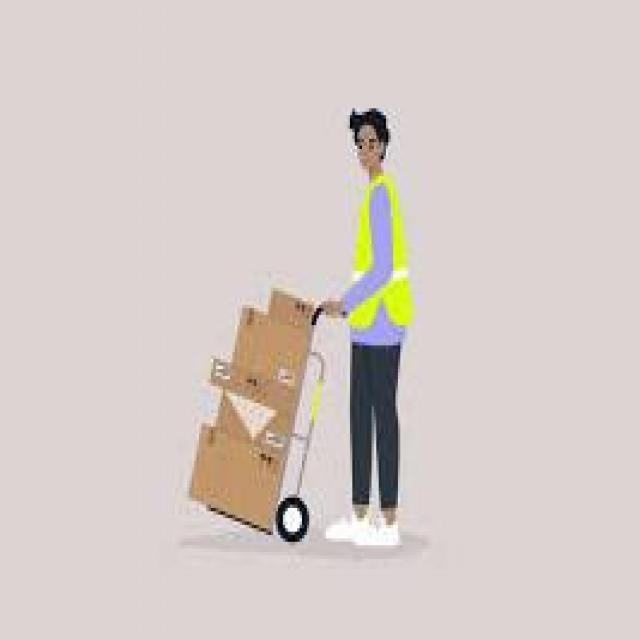reflective_jacket: (333, 162, 427, 345)
